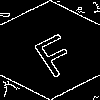F: (25, 25, 82, 79)
